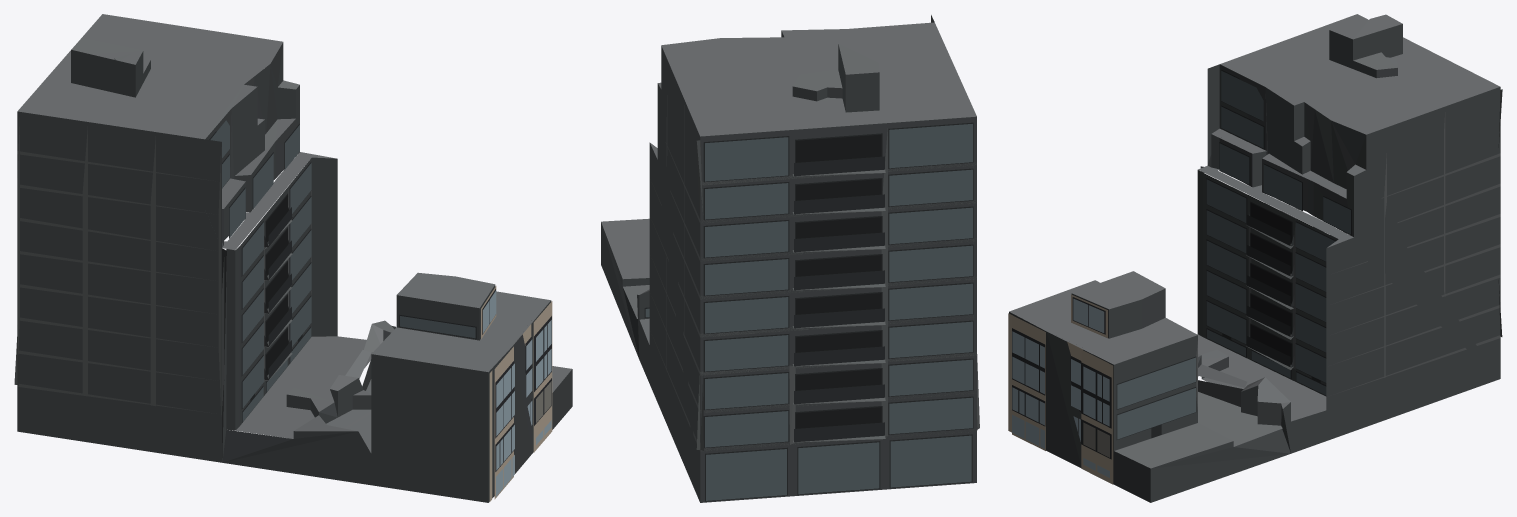
The model's file is haparandaweg-870-900.lod1.glb.
3 renders of one model, left to right at view 1: azimuth 30°, elevation 25°; view 2: azimuth 150°, elevation 25°; view 3: azimuth 270°, elevation 25°, orthographic. The views are drawn at different scales.
Parts seen in each view (by area): view 1: haparandaweg-870-900; view 2: haparandaweg-870-900; view 3: haparandaweg-870-900.
Boxes of the visible parts, bbox=[...] form: haparandaweg-870-900: bbox=[14, 14, 572, 502]; haparandaweg-870-900: bbox=[601, 15, 979, 502]; haparandaweg-870-900: bbox=[1008, 14, 1502, 502].
Bounding box in the file's own units: 41.93 × 31.92 × 44.34.
